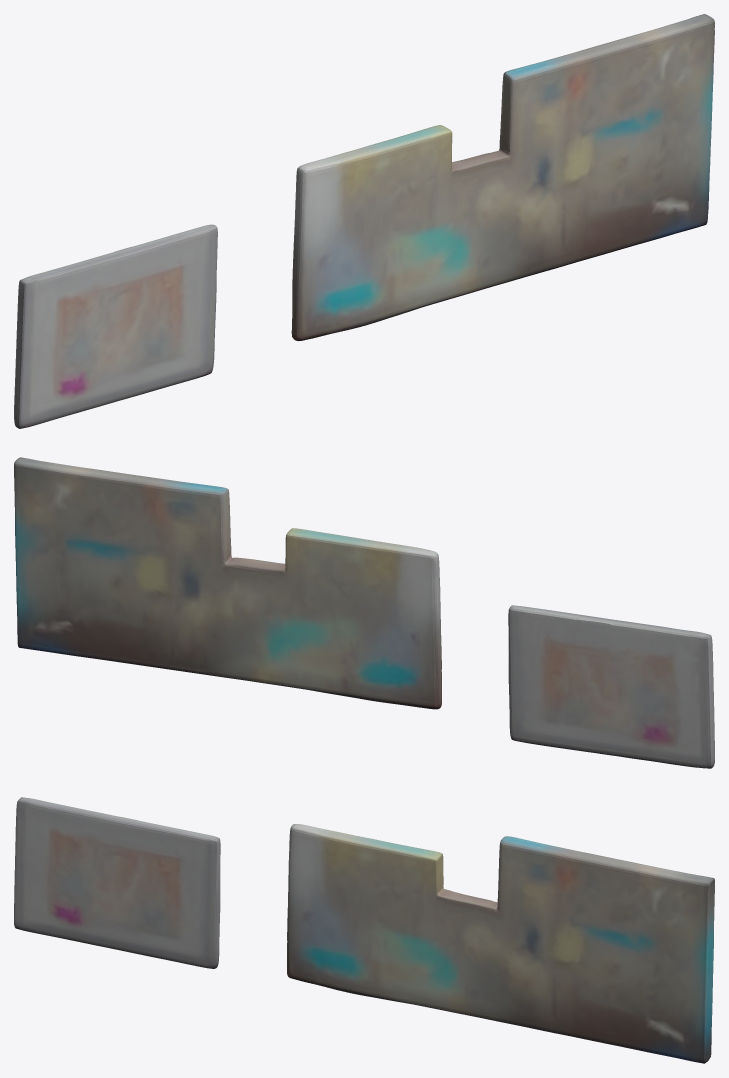
Rendered from abstract_artwork_on_dresser_000.glb.
3 renders of one model, top to bottom at view 1: azimuth 30°, elevation 25°; view 2: azimuth 150°, elevation 25°; view 3: azimuth 330°, elevation 25°, orthographic. The views are drawn at different scales.
Visible parts, largest first — view 1: phase2_final_abstract_artwork_on_dresser_000.obj; view 2: phase2_final_abstract_artwork_on_dresser_000.obj; view 3: phase2_final_abstract_artwork_on_dresser_000.obj.
Part boxes in pixels (x1,y1,x2,y2): phase2_final_abstract_artwork_on_dresser_000.obj: [14, 14, 714, 428]; phase2_final_abstract_artwork_on_dresser_000.obj: [14, 457, 714, 768]; phase2_final_abstract_artwork_on_dresser_000.obj: [14, 797, 714, 1063].
Bounding box in the file's own units: 0.7461 × 0.2065 × 0.096.
1 material, 1 textured.
